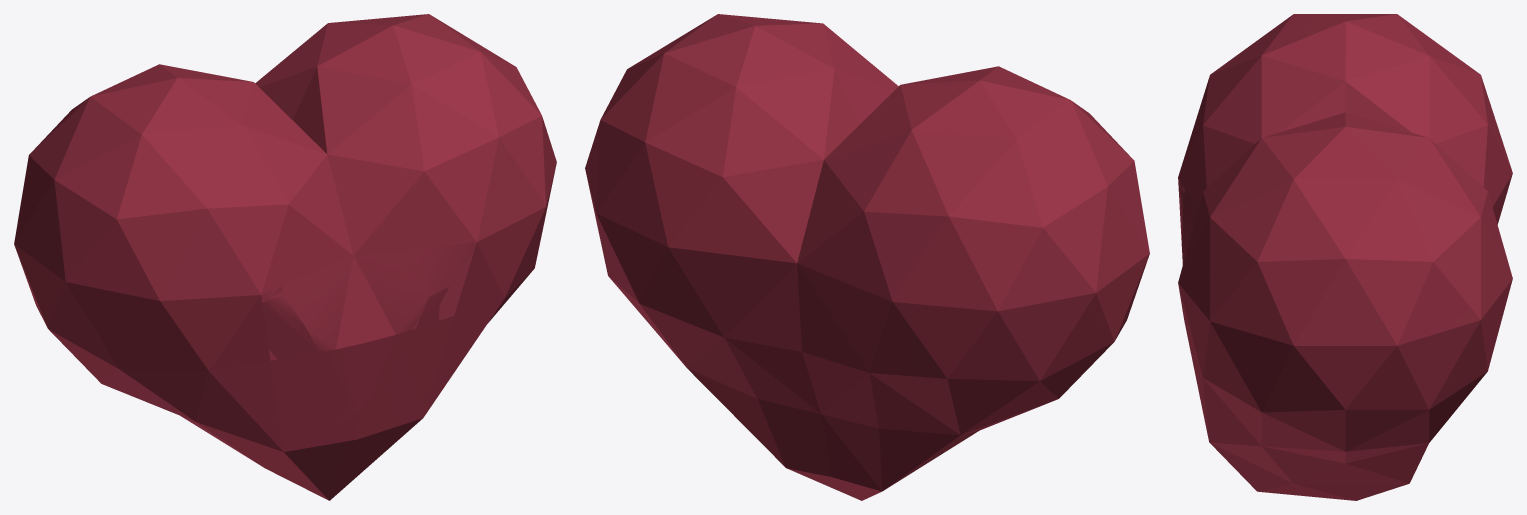
Rendered from heart.glb.
3 renders of one model, left to right at view 1: azimuth 30°, elevation 25°; view 2: azimuth 150°, elevation 25°; view 3: azimuth 270°, elevation 25°, orthographic. The views are drawn at different scales.
Visible parts, largest first — view 1: origin, Heart_Full_cell.012, Heart_Full_cell.035, Heart_Full_cell.057, Heart_Full_cell.031, Heart_Full_cell.048, Heart_Full_cell.017, Heart_Full_cell.042, Heart_Full_cell.037, Heart_Full_cell.045, Heart_Full_cell.034, Heart_Full_cell.014 (+15 smaller); view 2: origin, Heart_Full_cell.047, Heart_Full_cell.011, Heart_Full_cell.016, Heart_Full_cell.044, Heart_Full_cell.013, Heart_Full_cell.018, Heart_Full_cell.009, Heart_Full_cell.032, Heart_Full_cell.030, Heart_Full_cell.017, Heart_Full_cell.027 (+12 smaller); view 3: origin, Heart_Full_cell.034, Heart_Full_cell.010, Heart_Full_cell.029, Heart_Full_cell.058, Heart_Full_cell.032, Heart_Full_cell, Heart_Full_cell.023, Heart_Full_cell.028, Heart_Full_cell.033, Heart_Full_cell.045, Heart_Full_cell.043 (+14 smaller).
Part boxes in pixels (x1,y1,x2,y2): origin: (14, 17, 556, 500); Heart_Full_cell.012: (281, 224, 428, 406); Heart_Full_cell.035: (140, 191, 282, 307); Heart_Full_cell.057: (81, 115, 232, 221); Heart_Full_cell.031: (233, 296, 333, 456); Heart_Full_cell.048: (350, 141, 487, 271); Heart_Full_cell.017: (289, 48, 431, 159); Heart_Full_cell.042: (24, 186, 119, 305); Heart_Full_cell.037: (412, 156, 513, 296); Heart_Full_cell.045: (418, 63, 509, 159); Heart_Full_cell.034: (495, 74, 556, 231); Heart_Full_cell.014: (84, 190, 169, 289); origin: (592, 19, 1149, 500); Heart_Full_cell.047: (708, 332, 855, 455); Heart_Full_cell.011: (1007, 221, 1096, 355); Heart_Full_cell.016: (626, 77, 761, 264); Heart_Full_cell.044: (778, 298, 916, 409); Heart_Full_cell.013: (682, 245, 782, 333); Heart_Full_cell.018: (1009, 141, 1113, 231); Heart_Full_cell.009: (795, 254, 940, 376); Heart_Full_cell.032: (629, 19, 795, 104); Heart_Full_cell.030: (750, 87, 902, 228); Heart_Full_cell.017: (776, 20, 888, 126); Heart_Full_cell.027: (1045, 275, 1142, 386); origin: (1178, 16, 1510, 500); Heart_Full_cell.034: (1206, 204, 1342, 379); Heart_Full_cell.010: (1259, 336, 1441, 444); Heart_Full_cell.029: (1257, 150, 1408, 261); Heart_Full_cell.058: (1422, 230, 1512, 387); Heart_Full_cell.032: (1286, 121, 1432, 227); Heart_Full_cell: (1342, 224, 1418, 342); Heart_Full_cell.023: (1400, 225, 1443, 331); Heart_Full_cell.028: (1188, 264, 1258, 394); Heart_Full_cell.033: (1267, 15, 1416, 82); Heart_Full_cell.045: (1203, 144, 1286, 242); Heart_Full_cell.043: (1209, 441, 1376, 488).
Size of the model in its own units: 11.74 by 9.73 by 6.92.
